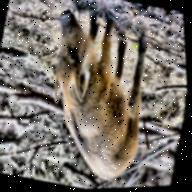boar: (12, 0, 189, 187)
